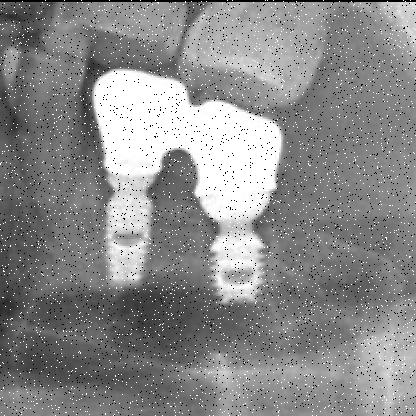Bicon: (84, 184, 168, 290), (192, 224, 283, 316)
